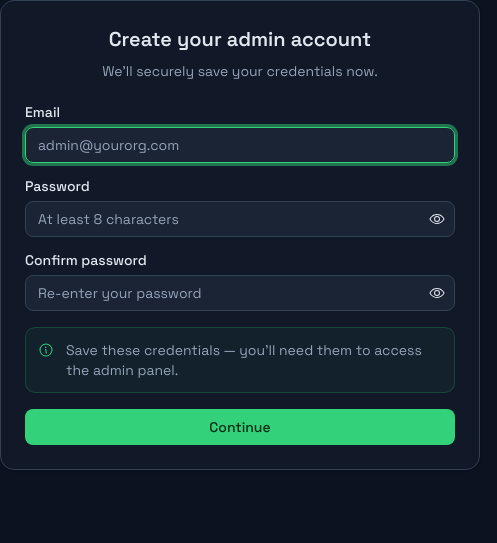
CreateAccountStep › clears prior validation errors after correcting input
Click the button "Continue": (240,427) top-left (25, 409), bottom-right (455, 445)
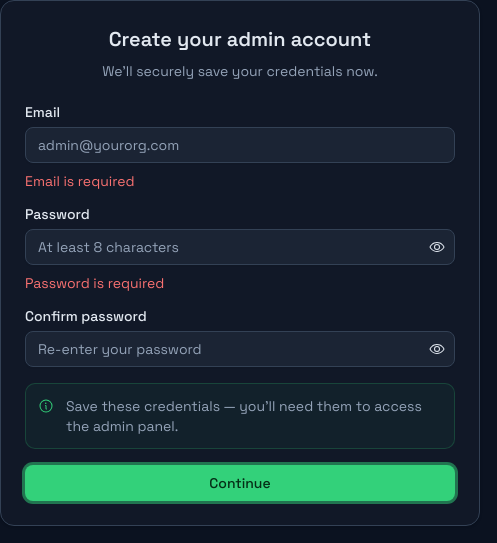
Check: the text "Email is required" is shown, box top-left (25, 172), bottom-right (134, 190)
Check: the text "Password is required" is shown, box top-left (25, 274), bottom-right (164, 292)
In the field labelled "Email": (240,145) top-left (25, 127), bottom-right (455, 163), type "admin@test.com"
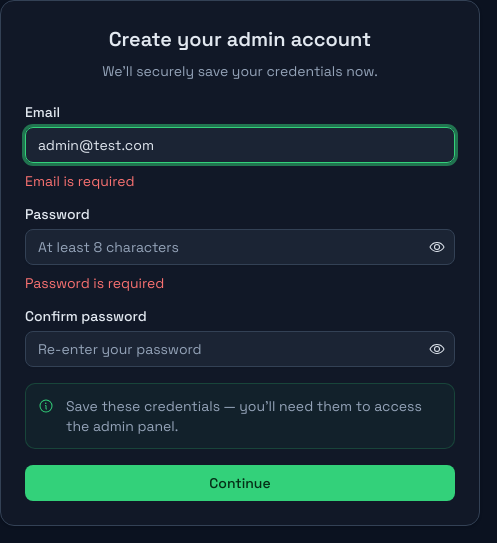
In the password field labelled "Password": (240,247) top-left (25, 229), bottom-right (455, 265), type "password123"
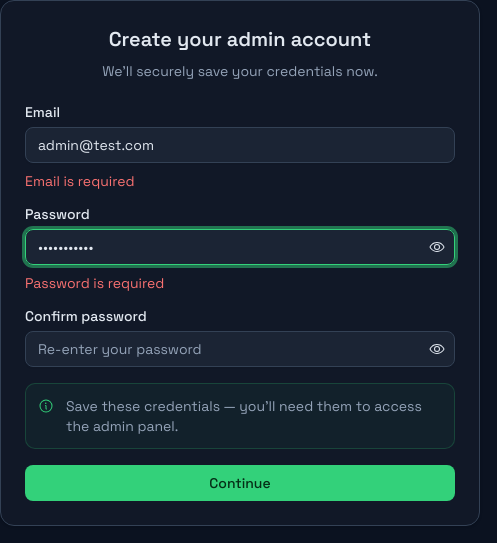
In the password field labelled "Confirm password": (240,349) top-left (25, 331), bottom-right (455, 367), type "password123"
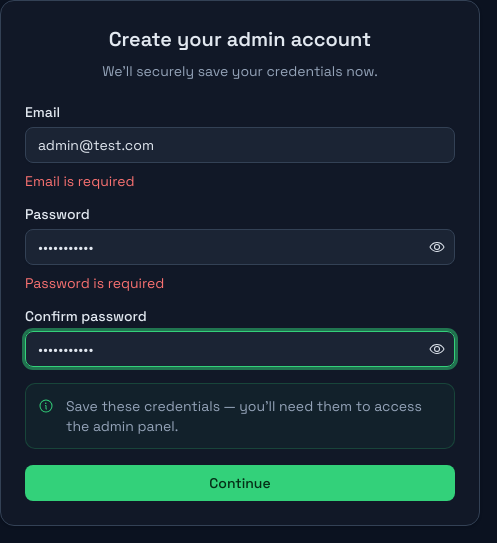
Click the button "Continue": (240,483) top-left (25, 465), bottom-right (455, 501)
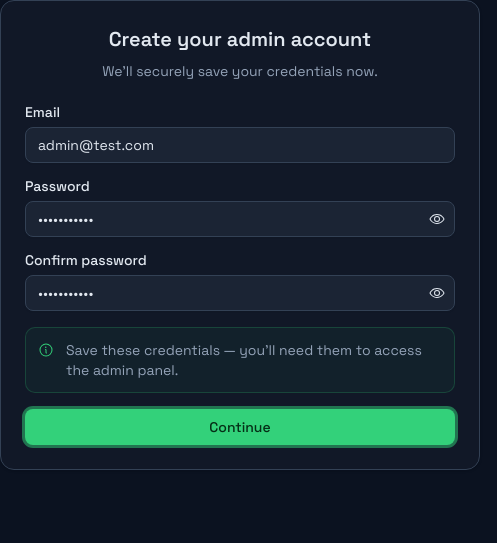
Check: the text "Email is required" is gone
Check: the text "Password is required" is gone
